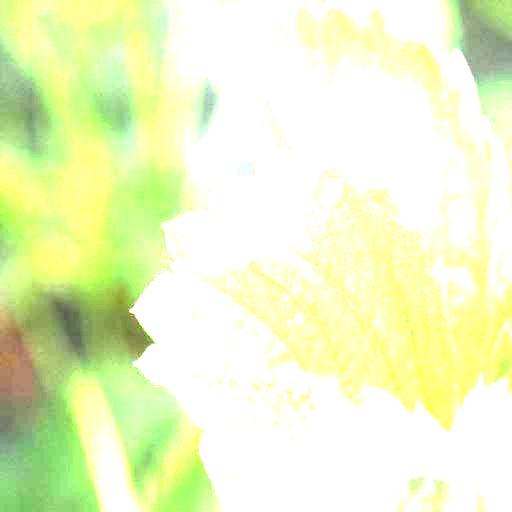Powdery Mildew Leaf: (130, 143, 466, 511), (252, 0, 511, 420), (455, 372, 511, 511)
